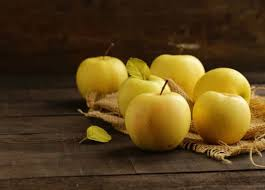apple: (125, 95, 187, 152), (193, 90, 257, 145), (151, 51, 205, 100), (77, 55, 133, 100), (199, 64, 254, 109), (113, 75, 173, 114)
